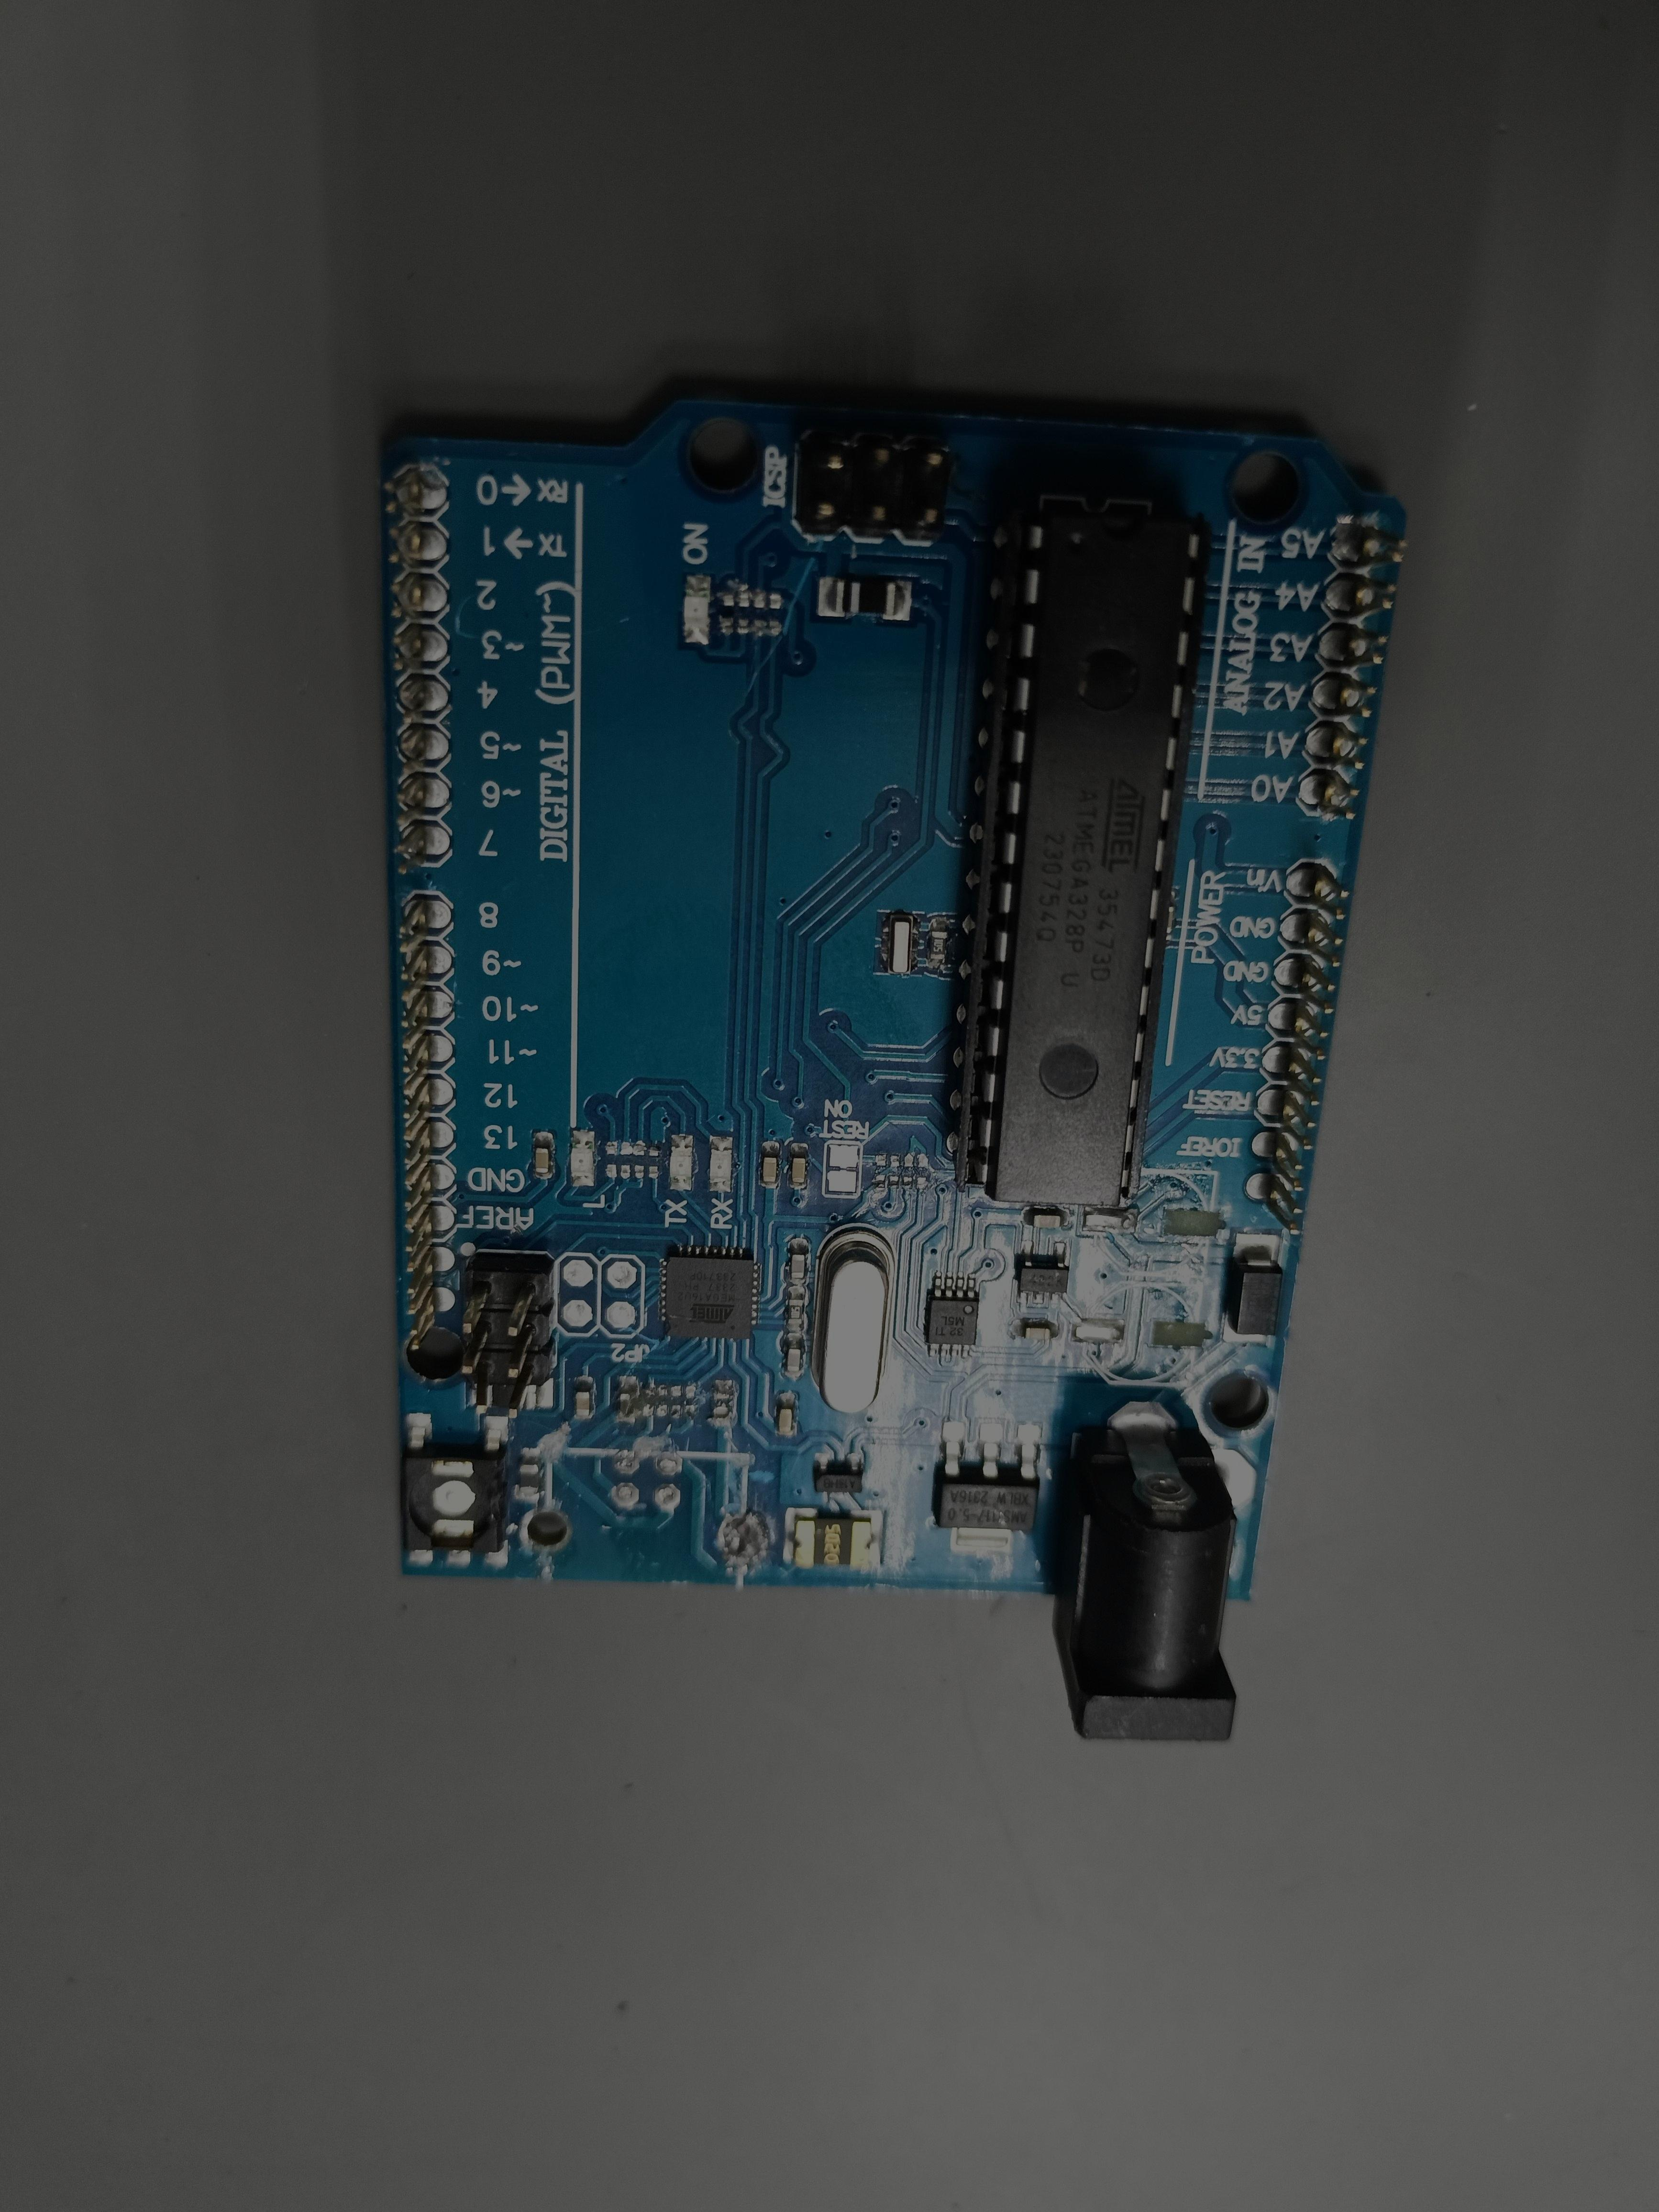ATmega328 chip: (951, 509, 1211, 1207)
Arduino board: (382, 401, 1406, 1742)
